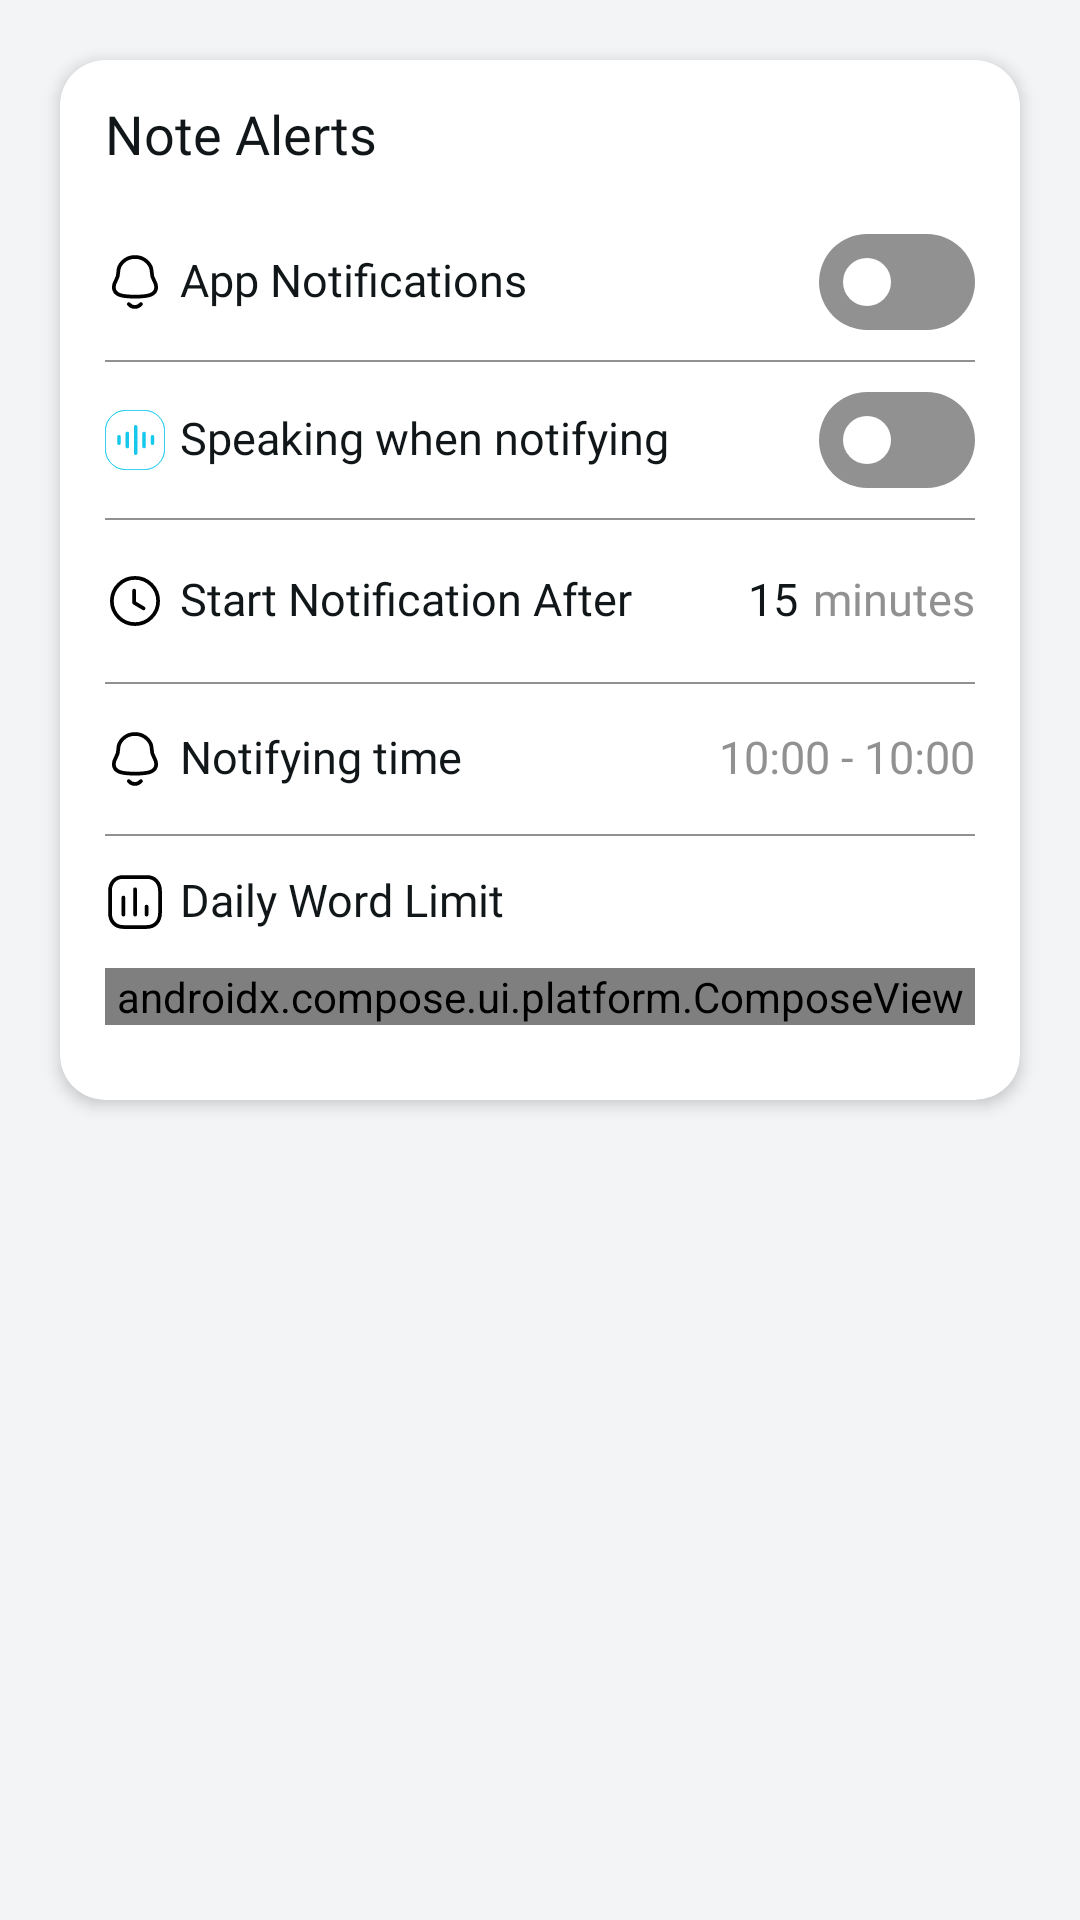

Where icons sit on this 1080w x 1920h app screen, as (x1, y1, x2, y2):
clock: (110, 576, 160, 626)
volume: (105, 410, 165, 470)
